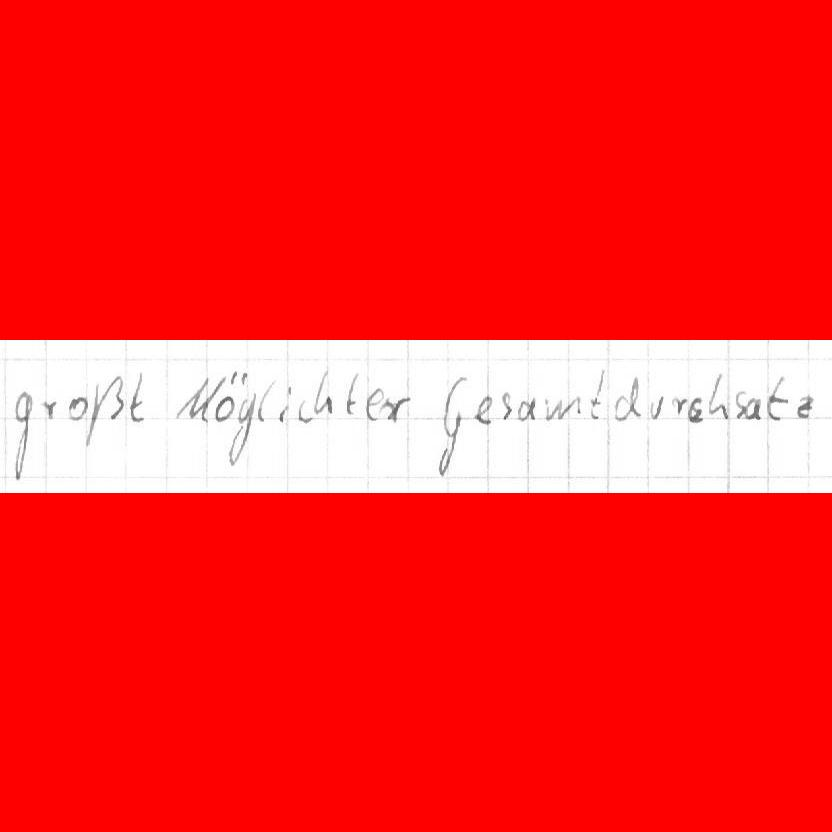Char: (435, 372, 469, 480), (83, 373, 124, 448), (175, 373, 226, 424), (228, 390, 257, 467), (11, 389, 34, 482), (215, 368, 247, 421), (613, 374, 645, 422), (763, 373, 790, 423), (707, 372, 731, 421), (312, 369, 336, 416), (378, 392, 411, 425), (587, 367, 607, 421), (543, 394, 581, 422), (256, 377, 277, 425), (129, 369, 147, 424), (472, 393, 496, 425), (342, 373, 360, 414), (365, 385, 384, 422), (516, 395, 538, 424), (65, 395, 89, 421), (277, 384, 293, 423), (794, 393, 817, 419), (686, 395, 705, 424), (647, 392, 666, 420), (742, 396, 763, 420), (498, 388, 513, 421), (669, 394, 687, 418), (296, 398, 312, 424), (733, 387, 746, 419), (40, 397, 58, 420)
